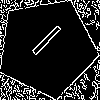I: (22, 22, 64, 65)
